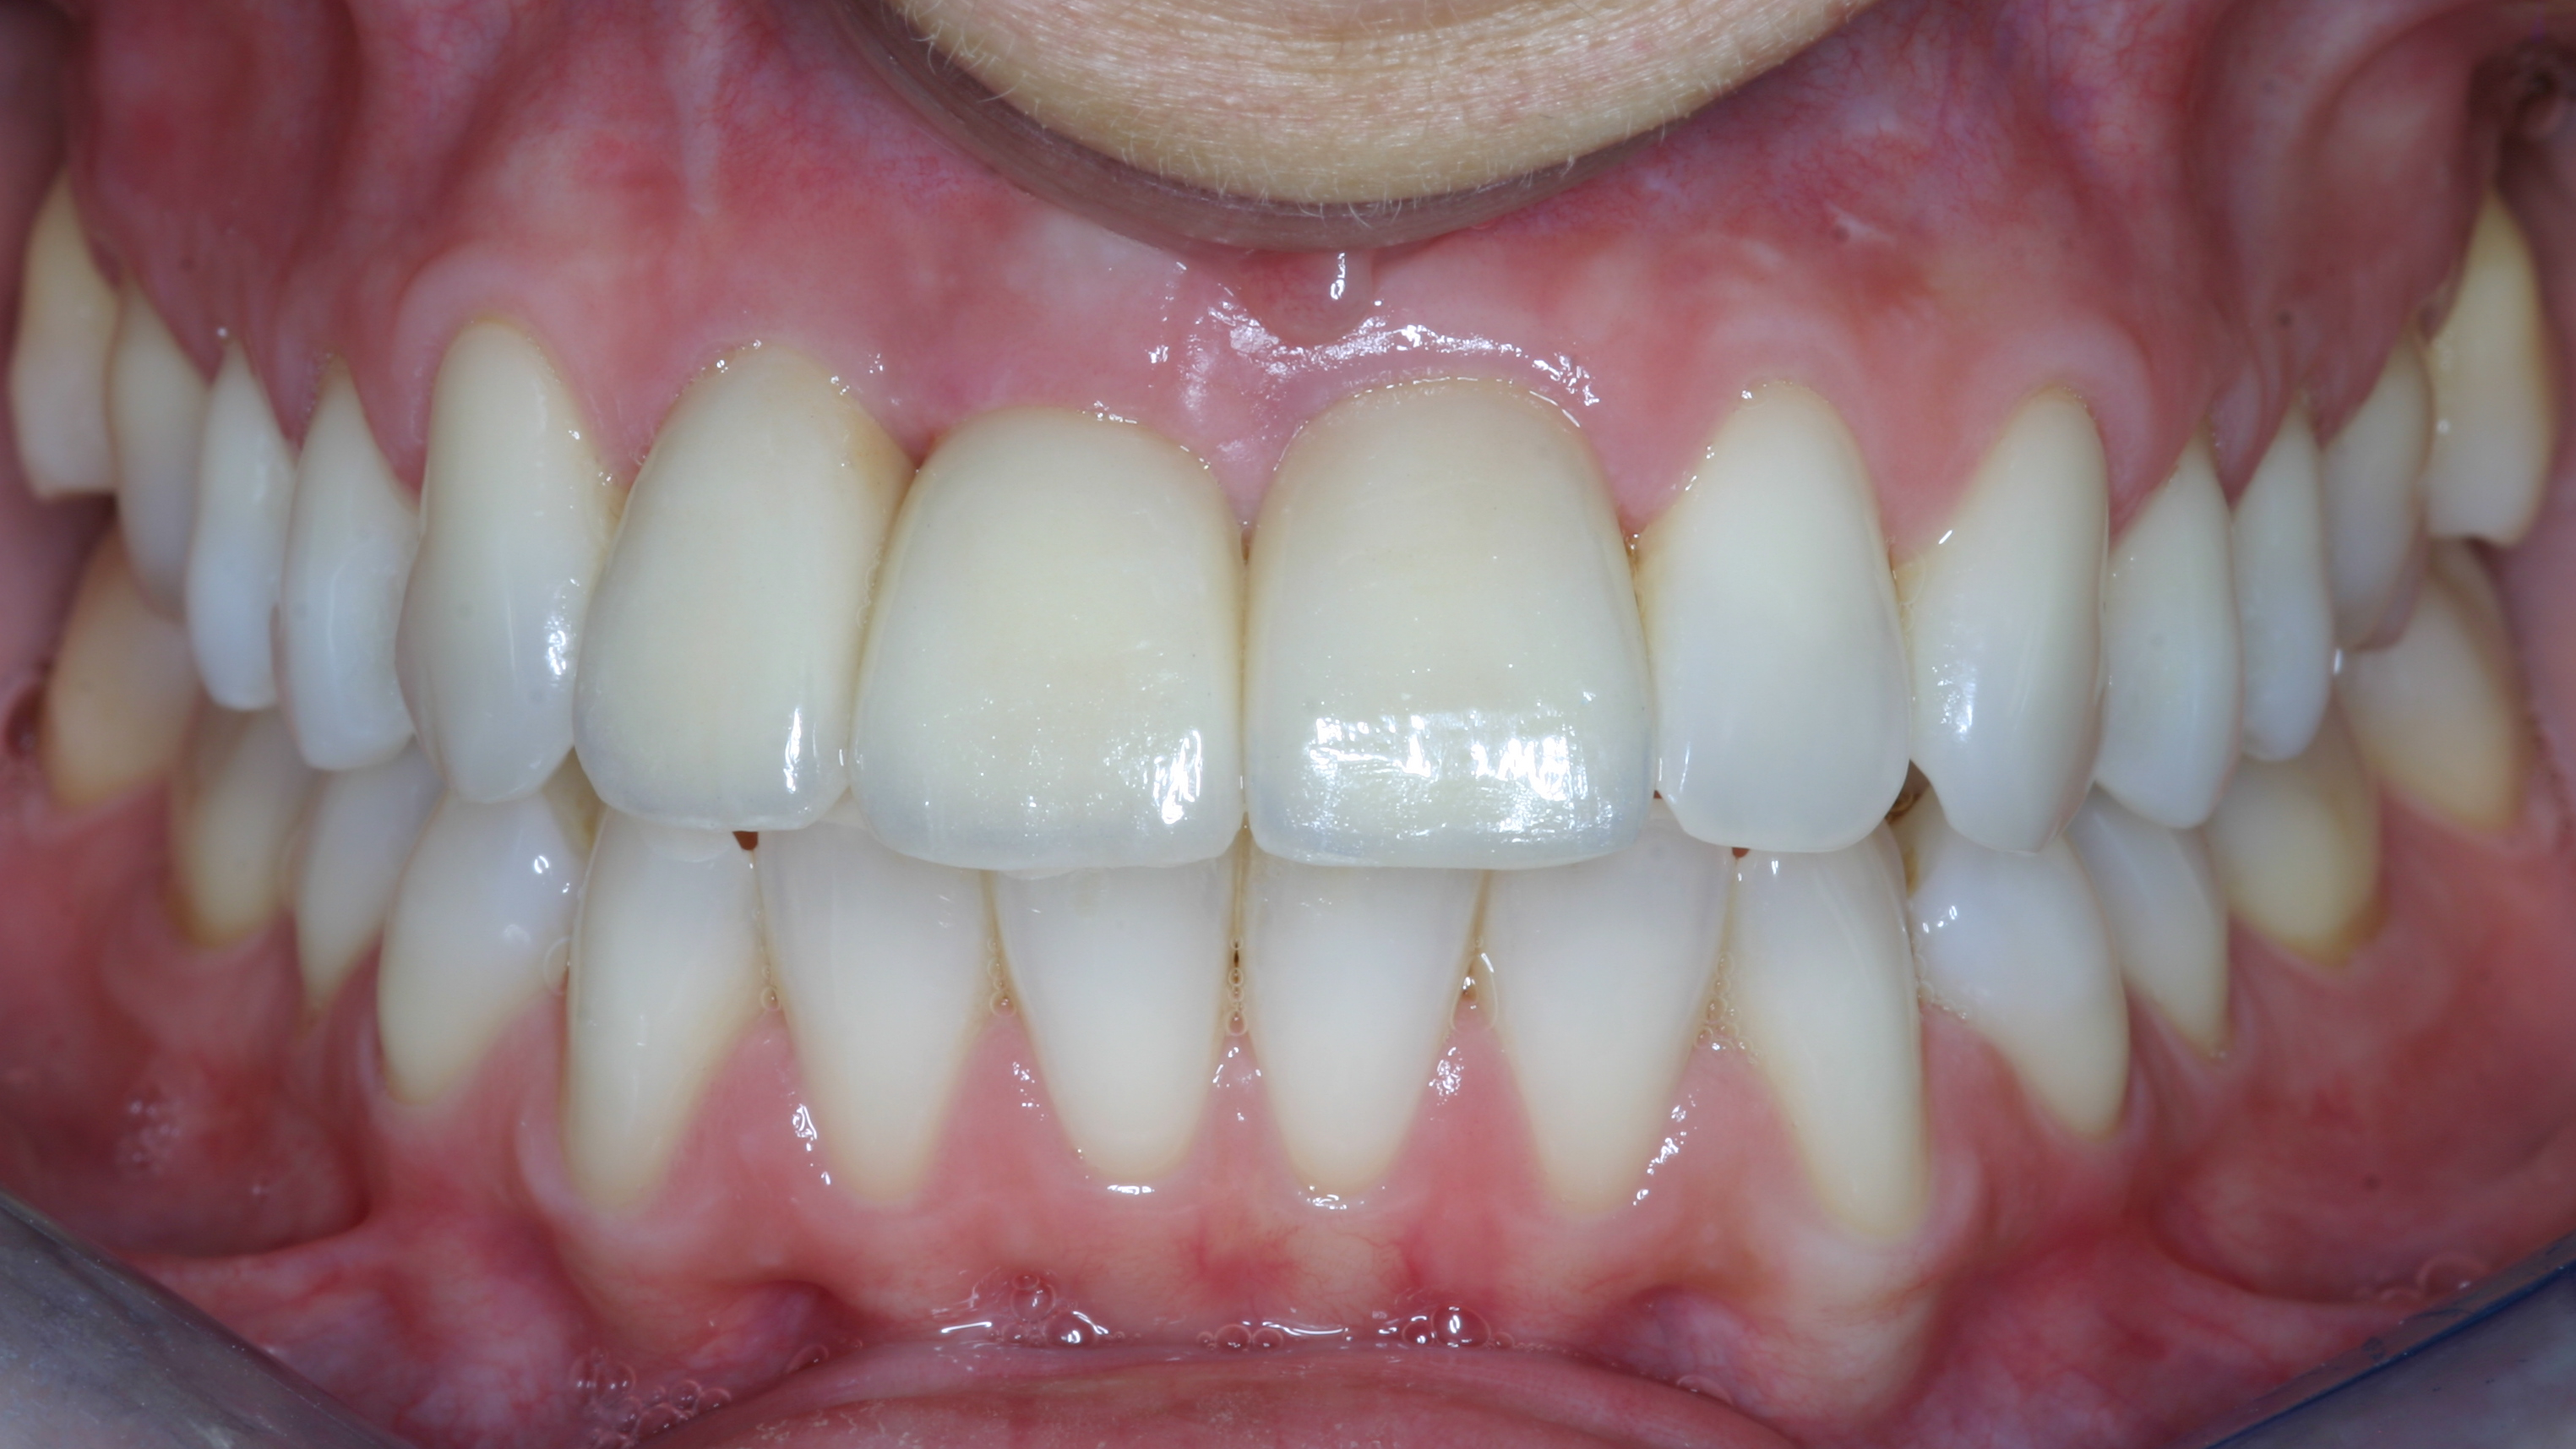LL1BC_healthy: (1909, 839, 2127, 1129)
LL1M_healthy: (2226, 775, 2383, 947)
LL2BC_healthy: (2100, 828, 2229, 1042)
LL2M_healthy: (2346, 577, 2518, 830)
LLCI_healthy: (1238, 870, 1484, 1194)
LLC_healthy: (1721, 847, 1927, 1233)
LLLI_healthy: (1481, 863, 1730, 1196)
LR1BC_healthy: (377, 793, 563, 1093)
LR1M_healthy: (170, 704, 288, 941)
LR2BC_healthy: (295, 771, 400, 998)
LR2M_healthy: (44, 598, 166, 796)
LRCI_healthy: (989, 876, 1228, 1178)
LRC_healthy: (564, 830, 755, 1196)
LRLI_healthy: (757, 844, 984, 1185)
UL1BC_healthy: (2105, 453, 2231, 828)
UL1M_healthy: (2332, 361, 2433, 646)
UL2BC_healthy: (2235, 405, 2327, 755)
UL2M_healthy: (2438, 196, 2548, 547)
ULCI_healthy: (1251, 380, 1652, 870)
ULC_healthy: (1911, 405, 2105, 847)
ULLI_healthy: (1651, 393, 1909, 851)
UR1BC_healthy: (281, 380, 405, 771)
UR1M_healthy: (110, 299, 189, 602)
UR2BC_healthy: (188, 354, 288, 711)
UR2M_healthy: (12, 180, 110, 506)
URCI_healthy: (860, 410, 1246, 876)
URC_healthy: (410, 324, 603, 796)
URLI_healthy: (577, 363, 878, 835)
